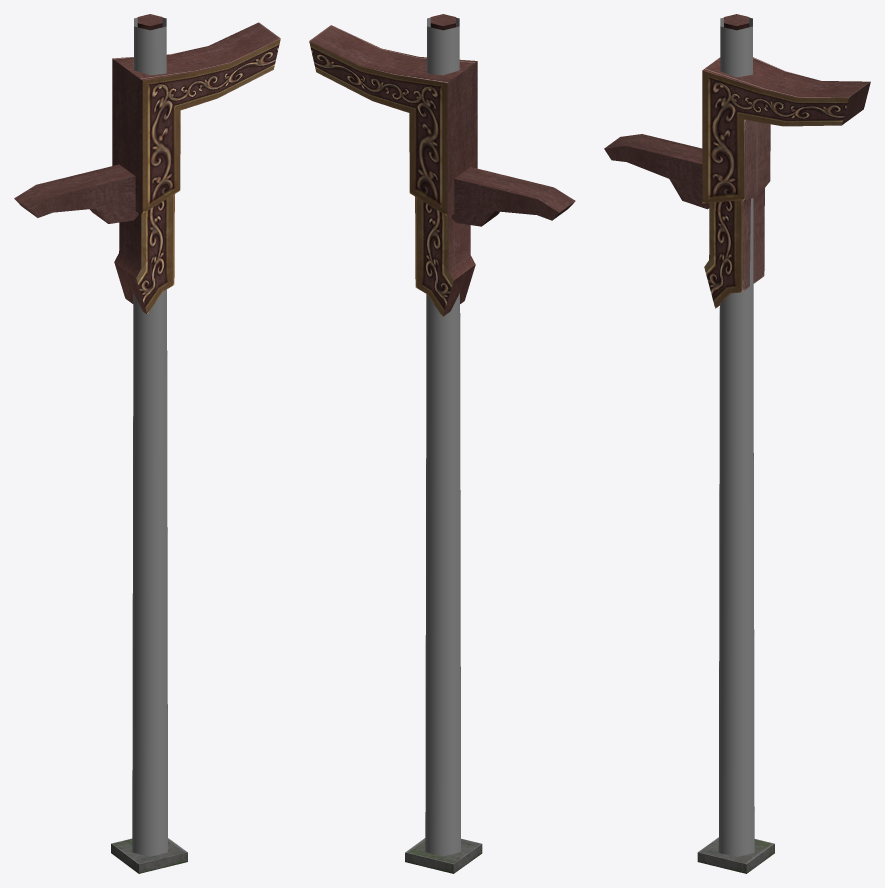
File: Scene_Build_HuanYinFang_DengGan_1.FBX
3 renders of one model, left to right at view 1: azimuth 30°, elevation 25°; view 2: azimuth 150°, elevation 25°; view 3: azimuth 330°, elevation 25°, orthographic.
Parts seen in each view (by area): view 1: Scene_Build_HuanYinFang_DengGan_1a, Scene_Build_HuanYinFang_DengGan_1_Xzm, Scene_Build_HuanYinFang_DengGan_1b; view 2: Scene_Build_HuanYinFang_DengGan_1a, Scene_Build_HuanYinFang_DengGan_1_Xzm, Scene_Build_HuanYinFang_DengGan_1b; view 3: Scene_Build_HuanYinFang_DengGan_1a, Scene_Build_HuanYinFang_DengGan_1_Xzm, Scene_Build_HuanYinFang_DengGan_1b.
Boxes of the visible parts, x1=… form: Scene_Build_HuanYinFang_DengGan_1a: x1=14, y1=14, x2=280, y2=314; Scene_Build_HuanYinFang_DengGan_1_Xzm: x1=132, y1=17, x2=167, y2=856; Scene_Build_HuanYinFang_DengGan_1b: x1=111, y1=838, x2=187, y2=873; Scene_Build_HuanYinFang_DengGan_1a: x1=309, y1=14, x2=575, y2=316; Scene_Build_HuanYinFang_DengGan_1_Xzm: x1=425, y1=17, x2=460, y2=856; Scene_Build_HuanYinFang_DengGan_1b: x1=405, y1=838, x2=482, y2=873; Scene_Build_HuanYinFang_DengGan_1a: x1=604, y1=14, x2=870, y2=308; Scene_Build_HuanYinFang_DengGan_1_Xzm: x1=718, y1=17, x2=754, y2=856; Scene_Build_HuanYinFang_DengGan_1b: x1=697, y1=837, x2=774, y2=873.
Size of the model in its own units: 460 by 1492 by 99.36.
